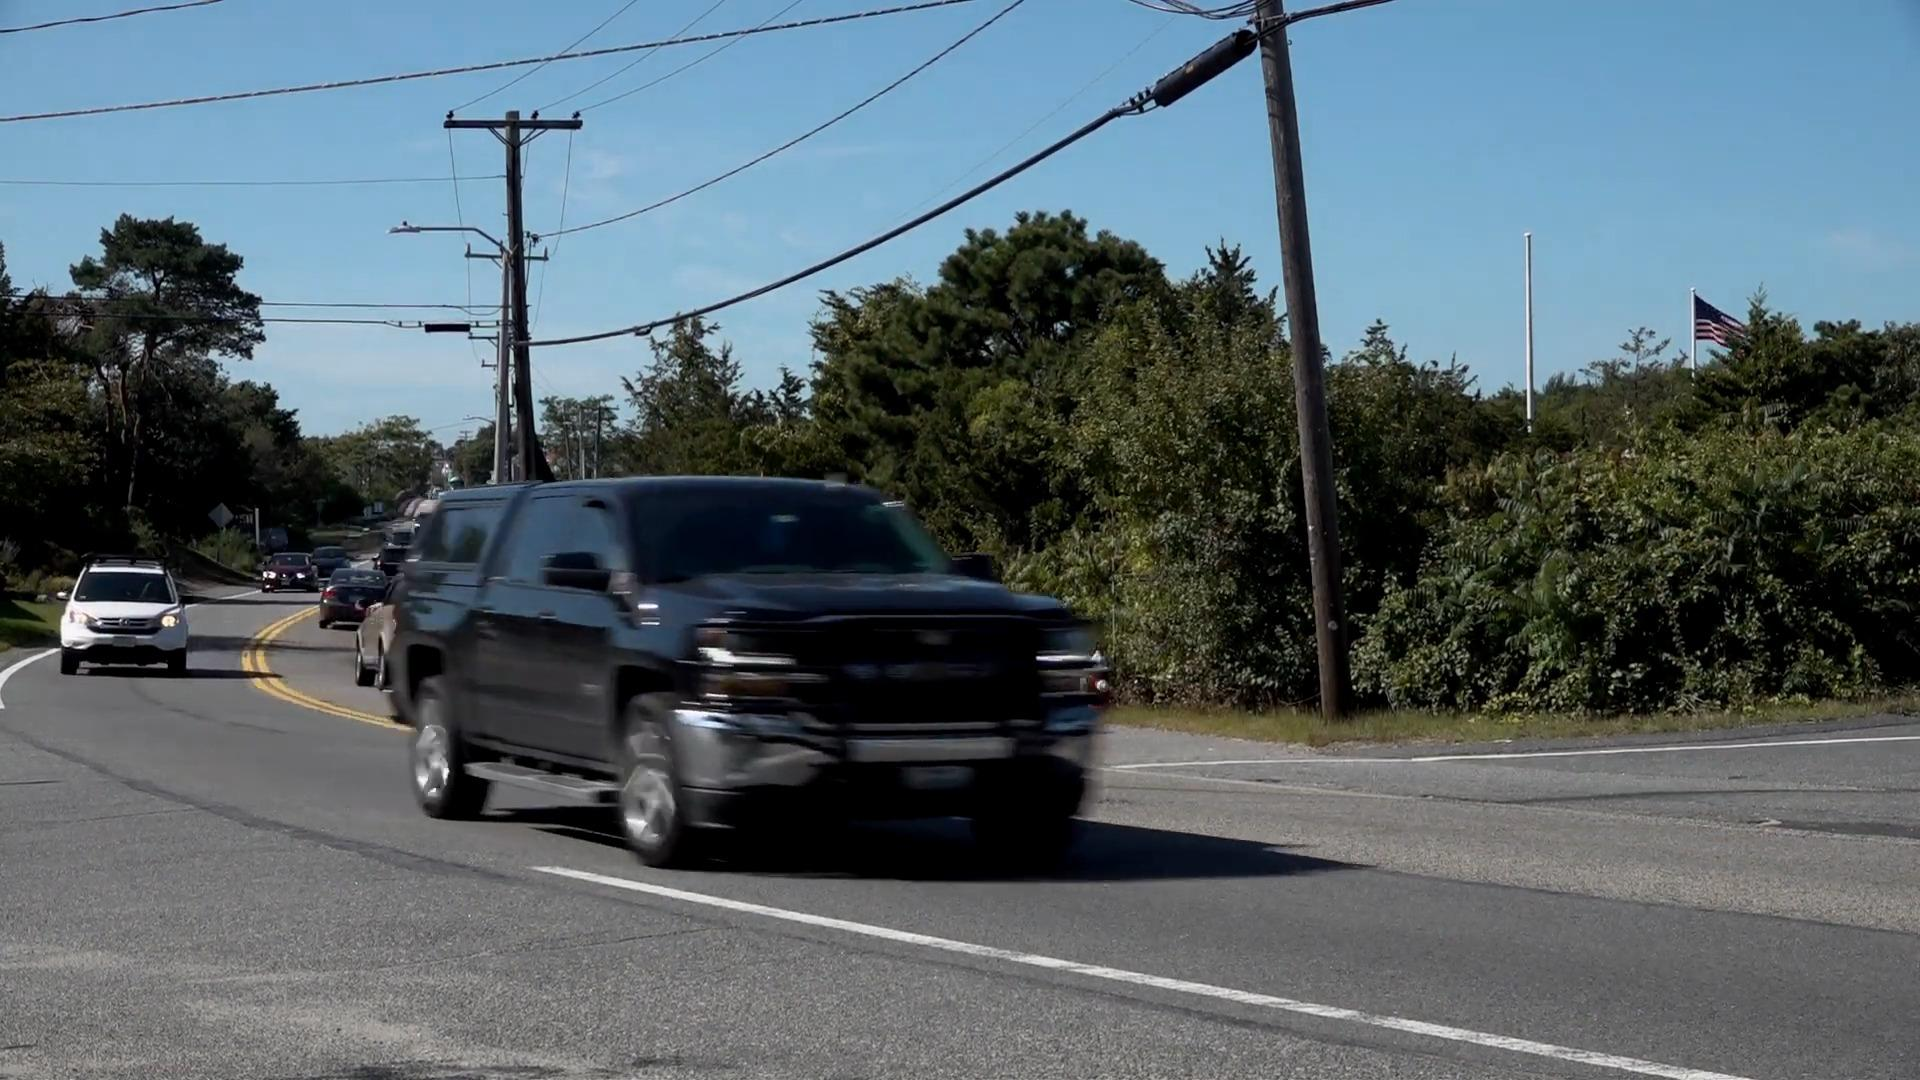sedans: (256, 553, 314, 593)
suv: (392, 479, 1108, 862), (57, 559, 194, 675)
